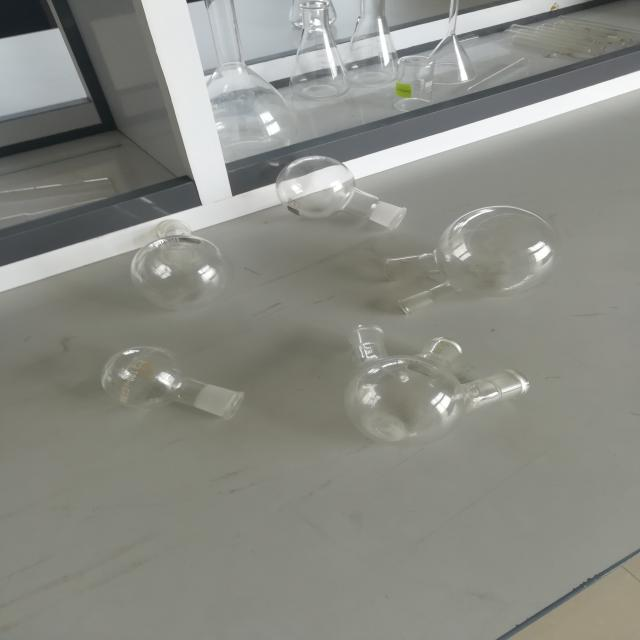Round_Bottom_Flask_Borosilicate_Glass_1_Neck: (78, 328, 256, 443), (119, 183, 234, 320), (256, 142, 419, 235)
Round_Bottom_Flask_Borosilicate_Glass_2_Neck: (366, 197, 583, 319)
Round_Bottom_Flask_Borosilicate_Glass_3_Neck: (319, 307, 543, 463)
